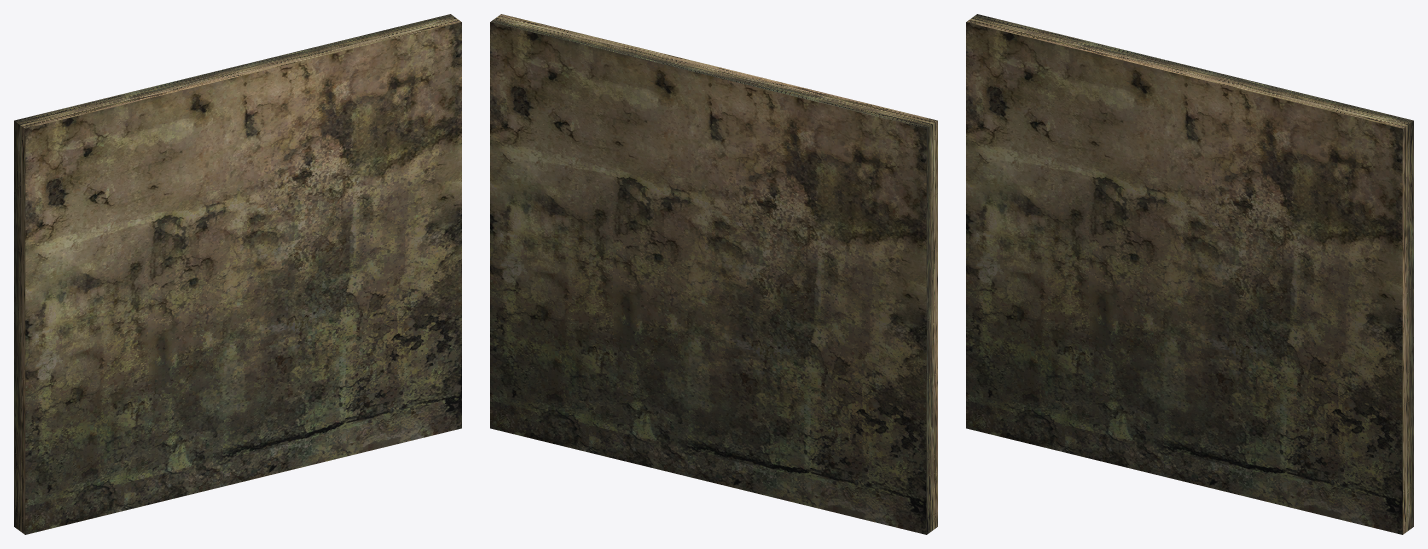
The model's file is DestroyableWalls_450x400.obj.
3 views of the same model, side by side, from view 1: azimuth 30°, elevation 25°; view 2: azimuth 150°, elevation 25°; view 3: azimuth 330°, elevation 25° (orthographic).
Parts seen in each view (by area): view 1: fx_DestroyableWalls_450x400_FRACTURED1; view 2: fx_DestroyableWalls_450x400_FRACTURED1; view 3: fx_DestroyableWalls_450x400_FRACTURED1.
Boxes of the visible parts, x1,y1,x2,y2 form: fx_DestroyableWalls_450x400_FRACTURED1: (14,14,461,534); fx_DestroyableWalls_450x400_FRACTURED1: (490,14,937,534); fx_DestroyableWalls_450x400_FRACTURED1: (966,14,1413,534).
Bounding box in the file's own units: 450 × 400 × 20.
2 materials, 2 textured.
